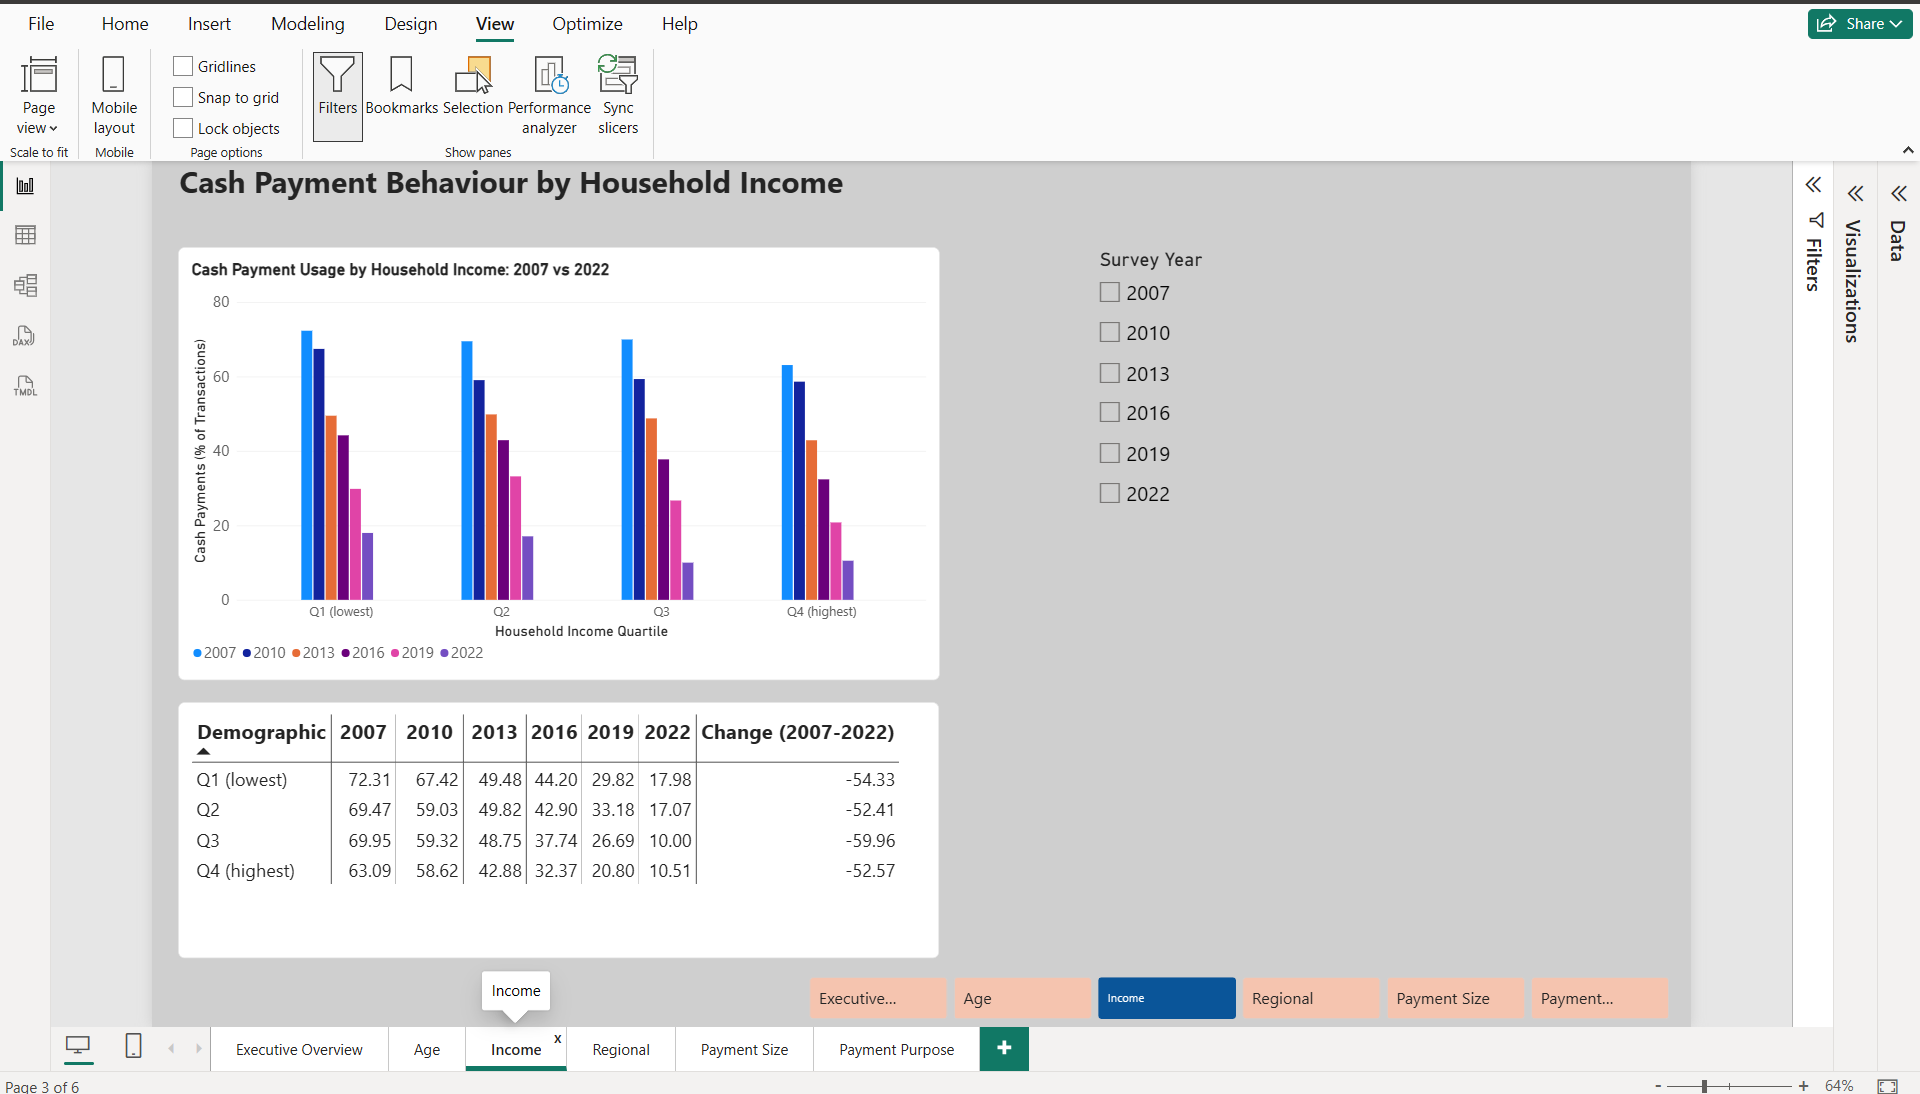

The dashboard page shown, as its layout file describes it:
{"tool":"powerbi","page":{"name":"Income","canvas":[1920,1080],"ordinal":2},"visuals":[{"type":"clusteredColumnChart","title":"Cash Payment Usage by Household Income: 2007 vs 2022","fields":{"Category":["Income.Demographic"],"Series":["Income.Survey Year"],"Y":["Avg(Income.Payment Share)"]},"box":[33.1,108.1,949.7,540],"z":0},{"type":"tableEx","fields":{"Values":["Income.Demographic","Income.2007","Income.2010","Income.2013","Income.2016","Income.2019","Income.2022","Income.Change (2007-2022)"]},"box":[32.9,675.1,948.8,319.2],"z":1000},{"type":"textbox","box":[33.6,0,1046.1,108],"z":2001},{"type":"pageNavigator","box":[819.9,1018.4,1076.7,52.5],"z":2002},{"type":"slicer","fields":{"Values":["Income.Survey Year"]},"box":[1173.2,109.1,238.8,331.4],"z":2003}]}

Visuals, with their boxes on the page's 1920x1080 design canvas (x1, y1, x2, y2). These are canvas units, not pixel positions in the 1920x1094 screenshot, which may show the page scaled, cropped or inside an application window:
"Cash Payment Usage by Household Income: 2007 vs 2022" clusteredColumnChart: x1=33 y1=108 x2=983 y2=648
tableEx - Income.Demographic x Income.2007: x1=33 y1=675 x2=982 y2=994
textbox: x1=34 y1=0 x2=1080 y2=108
pageNavigator: x1=820 y1=1018 x2=1897 y2=1071
slicer - Income.Survey Year: x1=1173 y1=109 x2=1412 y2=440
